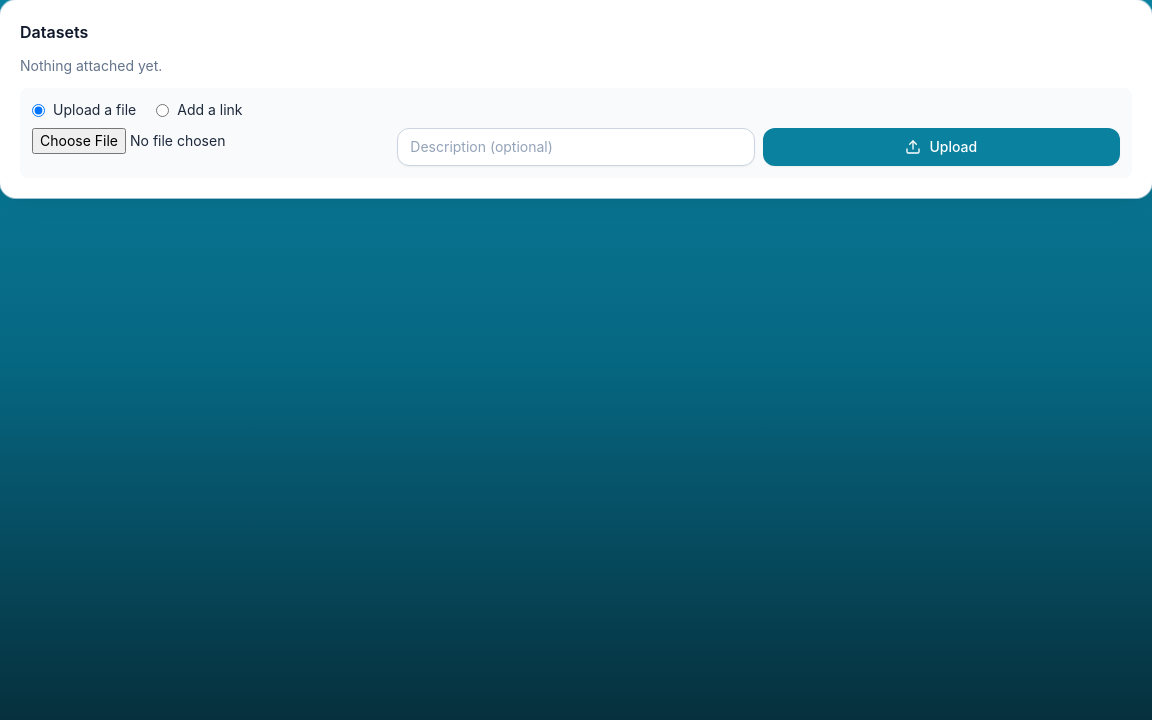
Scenario: attachments (file upload) › requires a file before uploading
What coordinates should you click on to do the following:
click the button "Upload"
I would click on:
 (941, 147)
Its box is left=763, top=128, right=1120, bottom=166.
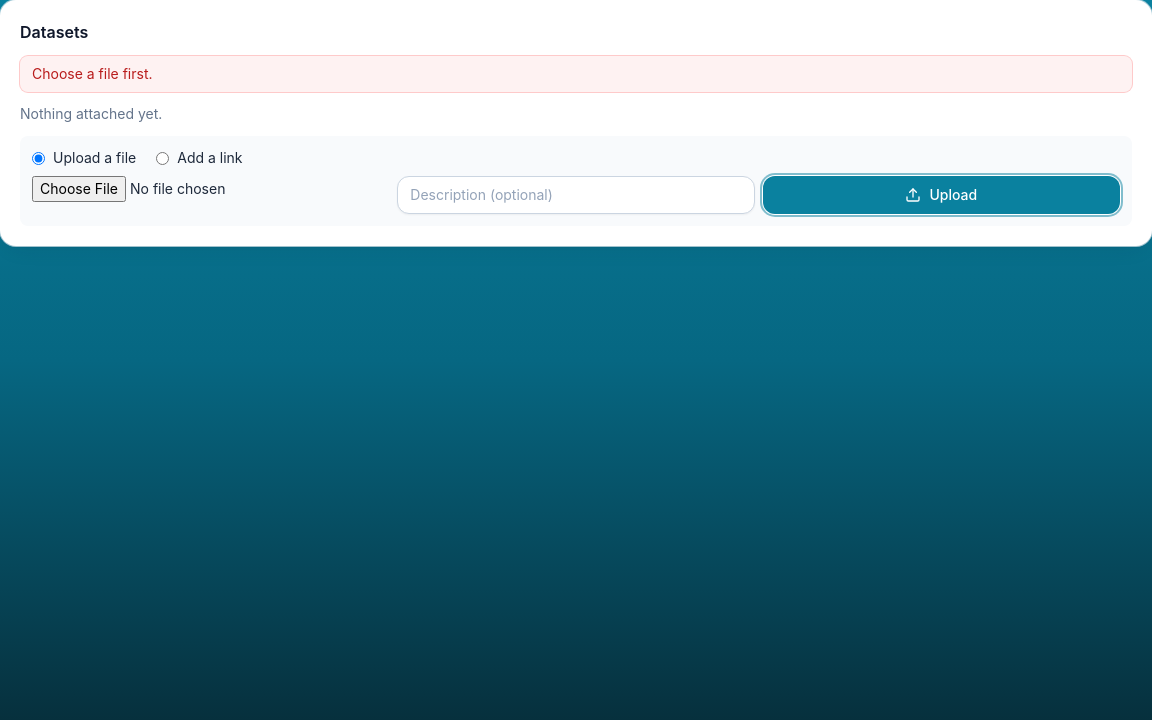
Result: the message shows "Choose a file" at left=32, top=65, right=152, bottom=82
